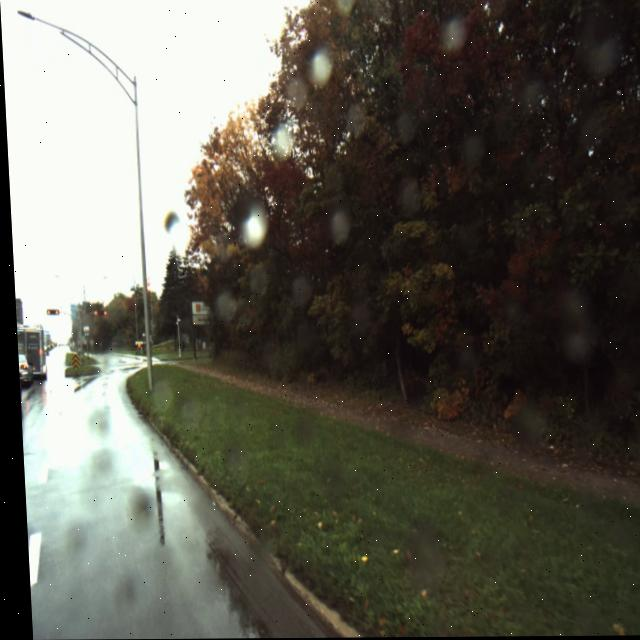car: (13, 324, 43, 378), (14, 354, 31, 388)
trafficLight-Red: (89, 310, 105, 319), (44, 309, 56, 316)
